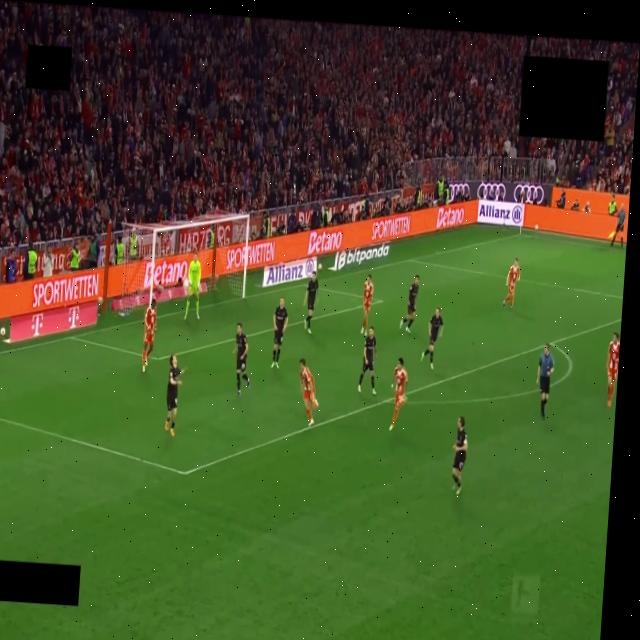ball: (182, 278, 190, 292)
player: (421, 308, 443, 369), (389, 358, 407, 431), (165, 355, 181, 436), (452, 416, 468, 495), (358, 327, 376, 395), (300, 359, 318, 426), (234, 323, 250, 396), (272, 299, 288, 368), (400, 275, 419, 332), (142, 297, 156, 372), (185, 254, 201, 319), (607, 332, 619, 407), (304, 272, 318, 333), (503, 258, 519, 310), (361, 275, 373, 335)
referee: (537, 344, 554, 419)
